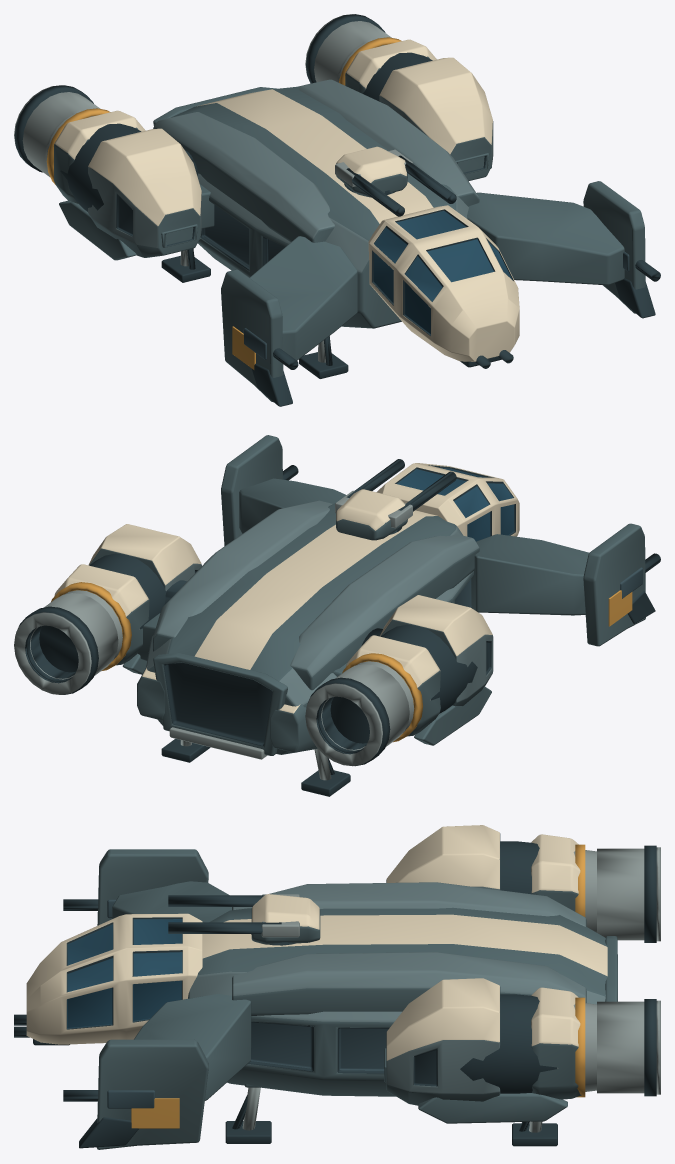
File: cutlass_01.glb
3 views of the same model, one above another, from view 1: azimuth 30°, elevation 25°; view 2: azimuth 150°, elevation 25°; view 3: azimuth 270°, elevation 25° (orthographic). The views are drawn at different scales.
Visible parts, largest first — view 1: cutlass_01; view 2: cutlass_01; view 3: cutlass_01.
Boxes of the visible parts, bbox=[...] form: cutlass_01: bbox=[14, 14, 660, 406]; cutlass_01: bbox=[14, 435, 660, 796]; cutlass_01: bbox=[14, 825, 660, 1149].
Size of the model in its own units: 11.64 by 5.44 by 16.
